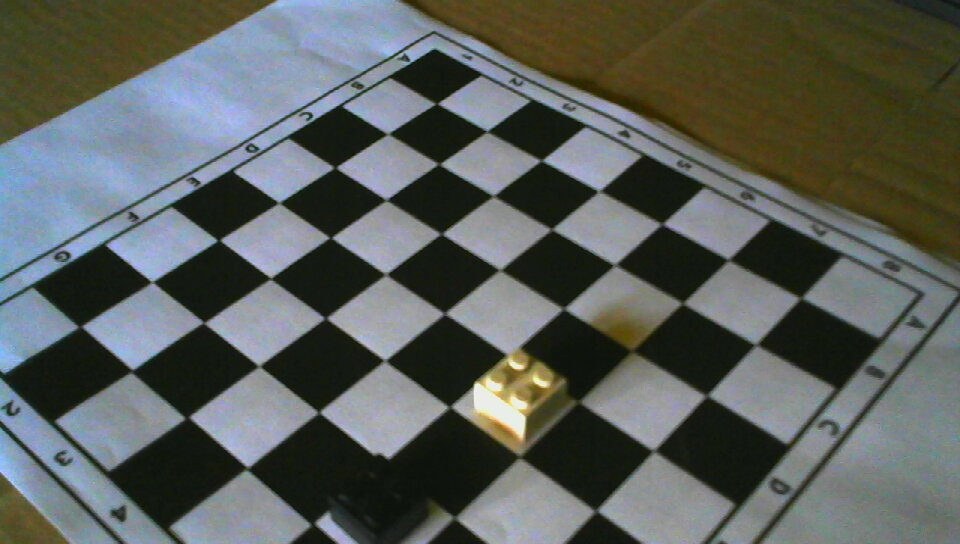bp: (330, 454, 429, 544)
wp: (475, 349, 566, 444)
